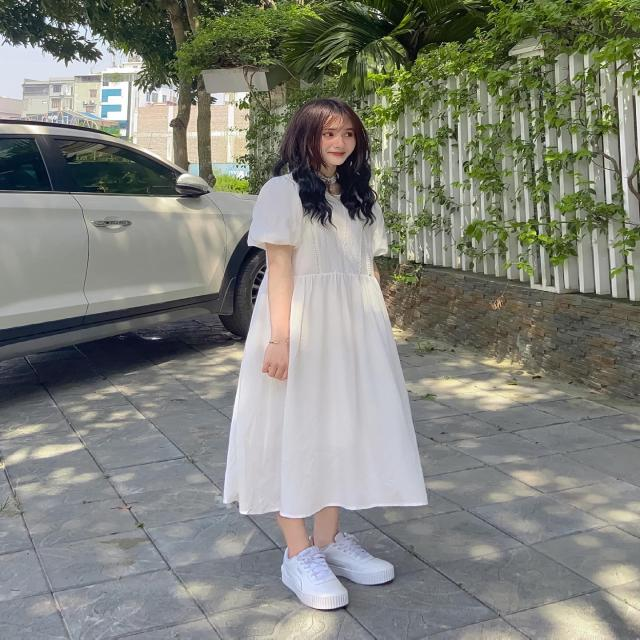clothes: (232, 170, 412, 506)
